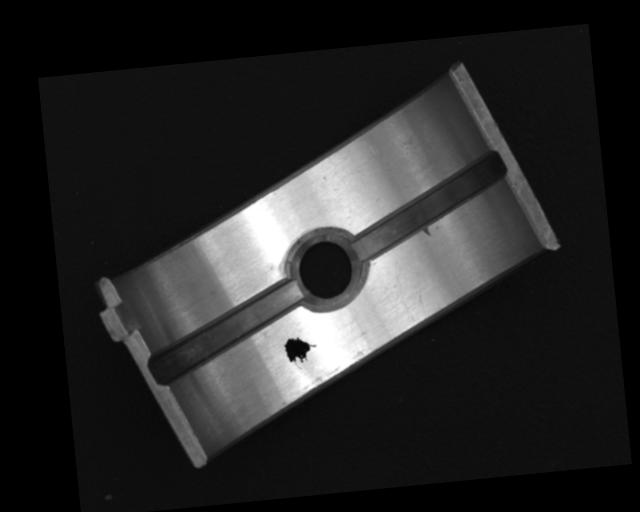blot: (282, 334, 319, 372)
bruise: (420, 225, 432, 238)
gap: (347, 151, 513, 263), (143, 281, 308, 387)
hole: (288, 227, 365, 310)
